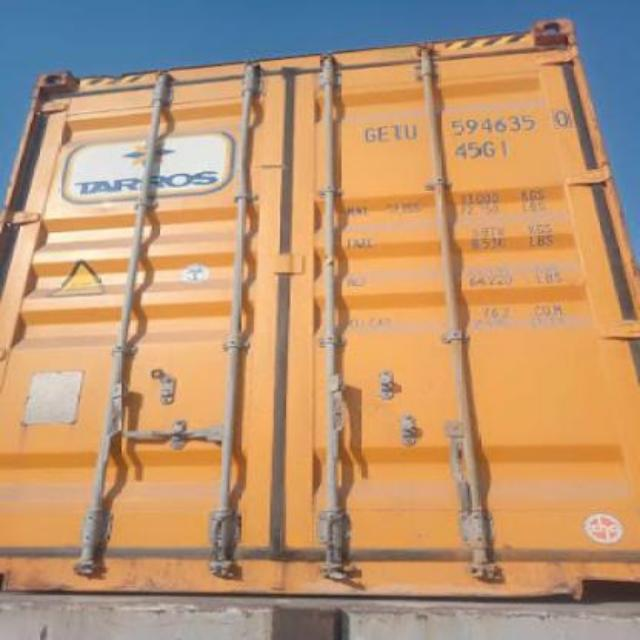0: (552, 104, 576, 130)
3: (508, 106, 524, 136)
4: (480, 110, 498, 136)
5: (522, 108, 540, 136), (452, 112, 466, 140)
6: (494, 110, 512, 136)
9: (464, 103, 478, 141)
E: (376, 122, 389, 146)
G: (360, 122, 376, 144)
T: (388, 121, 404, 142)
U: (404, 120, 418, 144)
